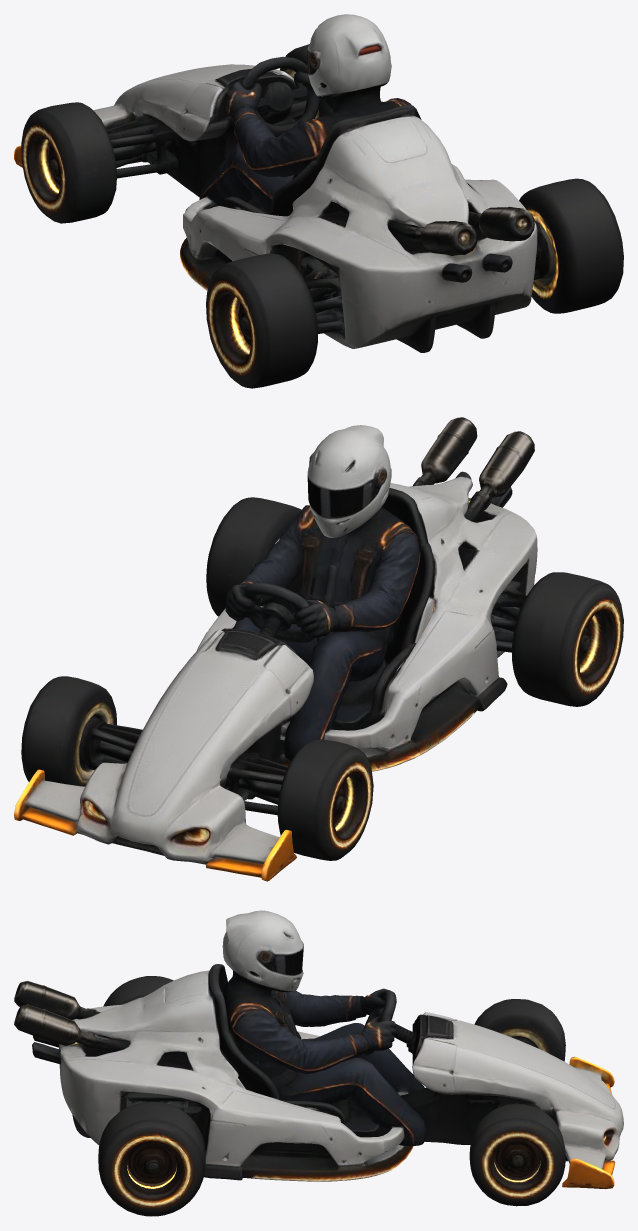
Rendered from hybrid-final.glb.
3 renders of one model, top to bottom at view 1: azimuth 30°, elevation 25°; view 2: azimuth 150°, elevation 25°; view 3: azimuth 270°, elevation 25°, orthographic. The views are drawn at different scales.
Visible parts, largest first — view 1: chassis, wheel-rl, wheel-rr, wheel-fl, wheel-fr; view 2: chassis, wheel-rl, wheel-fl, wheel-fr, wheel-rr; view 3: chassis, wheel-rr, wheel-fr, wheel-fl, wheel-rl.
Boxes of the visible parts, x1,y1,x2,y2 form: chassis: (14,14,539,352); wheel-rl: (206,253,318,388); wheel-rr: (519,178,623,313); wheel-fl: (21,102,116,223); wheel-fr: (280,44,333,120); chassis: (14,417,537,881); wheel-rl: (512,572,623,706); wheel-fl: (277,739,373,860); wheel-fr: (21,676,116,786); wheel-rr: (206,497,301,616); chassis: (14,910,623,1189); wheel-rr: (98,1101,205,1216); wheel-fr: (469,1103,565,1206); wheel-fl: (474,999,565,1061); wheel-rl: (103,976,173,1006).
Size of the model in its own units: 2.62 by 1.89 by 4.5.
Materials: 1 (1 with a texture image).
